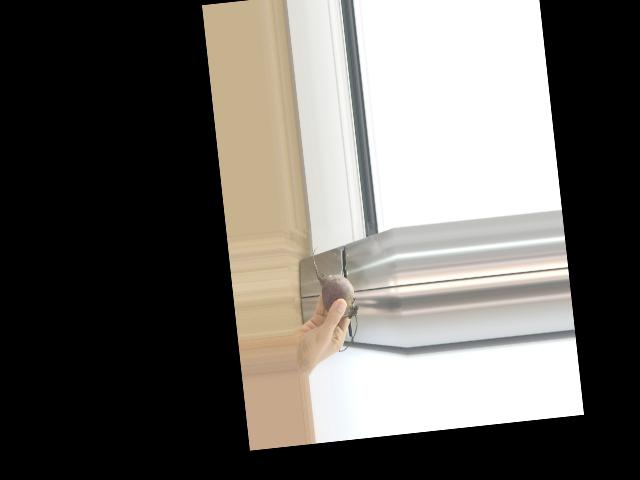beet: (311, 242, 362, 353)
